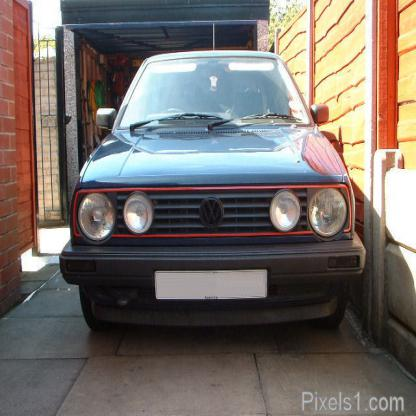Vehicle: (60, 52, 368, 338)
